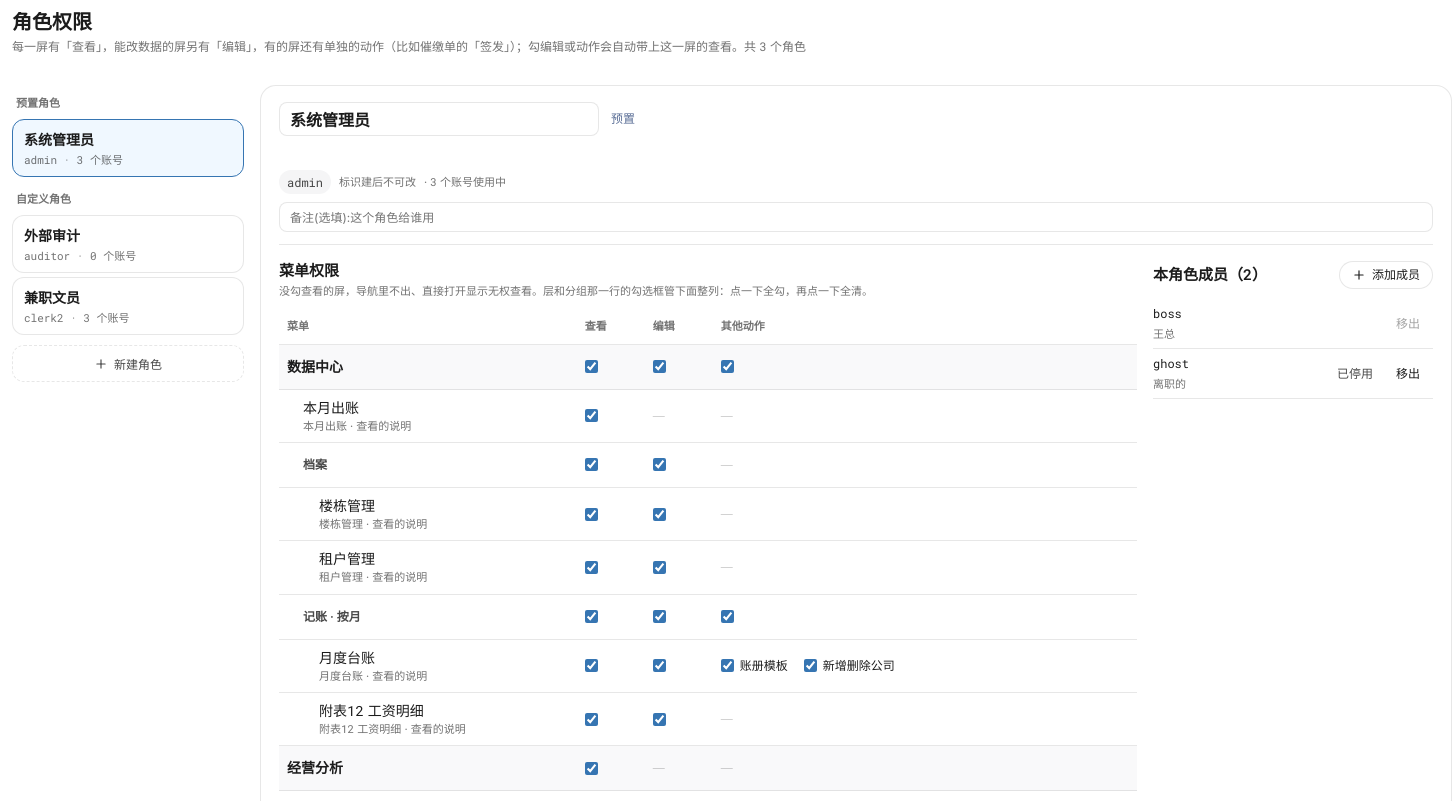
it: 角色本身 › 删除按钮:预置角色没有;自定义角色有,有成员时禁用并写「请先移出」
Click the button with class "sr-item" showing "外部审计 auditor · 0 个账号": (128,244) 12,215 -> 244,273
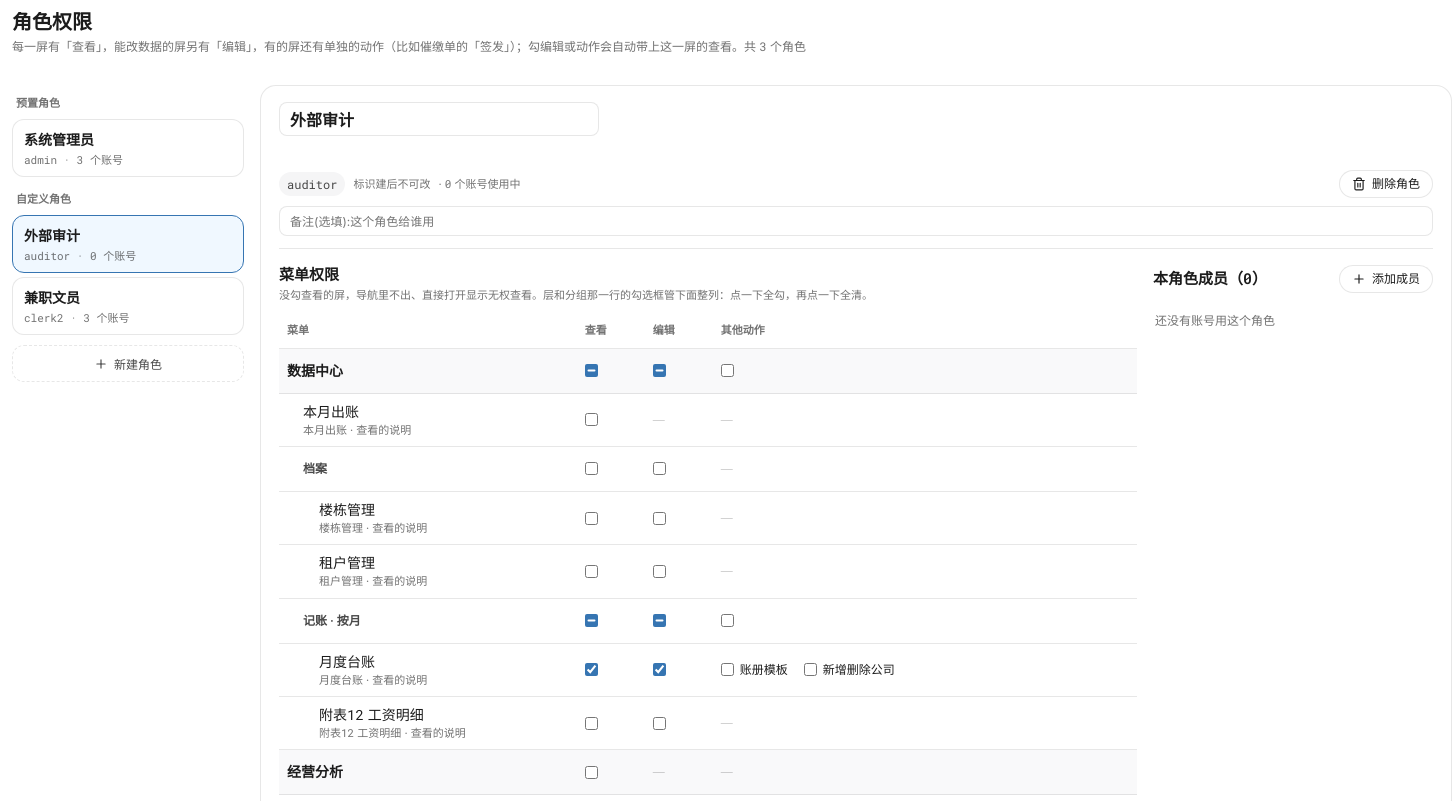
Check: the button "删除角色" is enabled, box 1339,170 -> 1433,198
Click the button with class "sr-item" showing "兼职文员 clerk2 · 3 个账号": (128,306) 12,277 -> 244,335
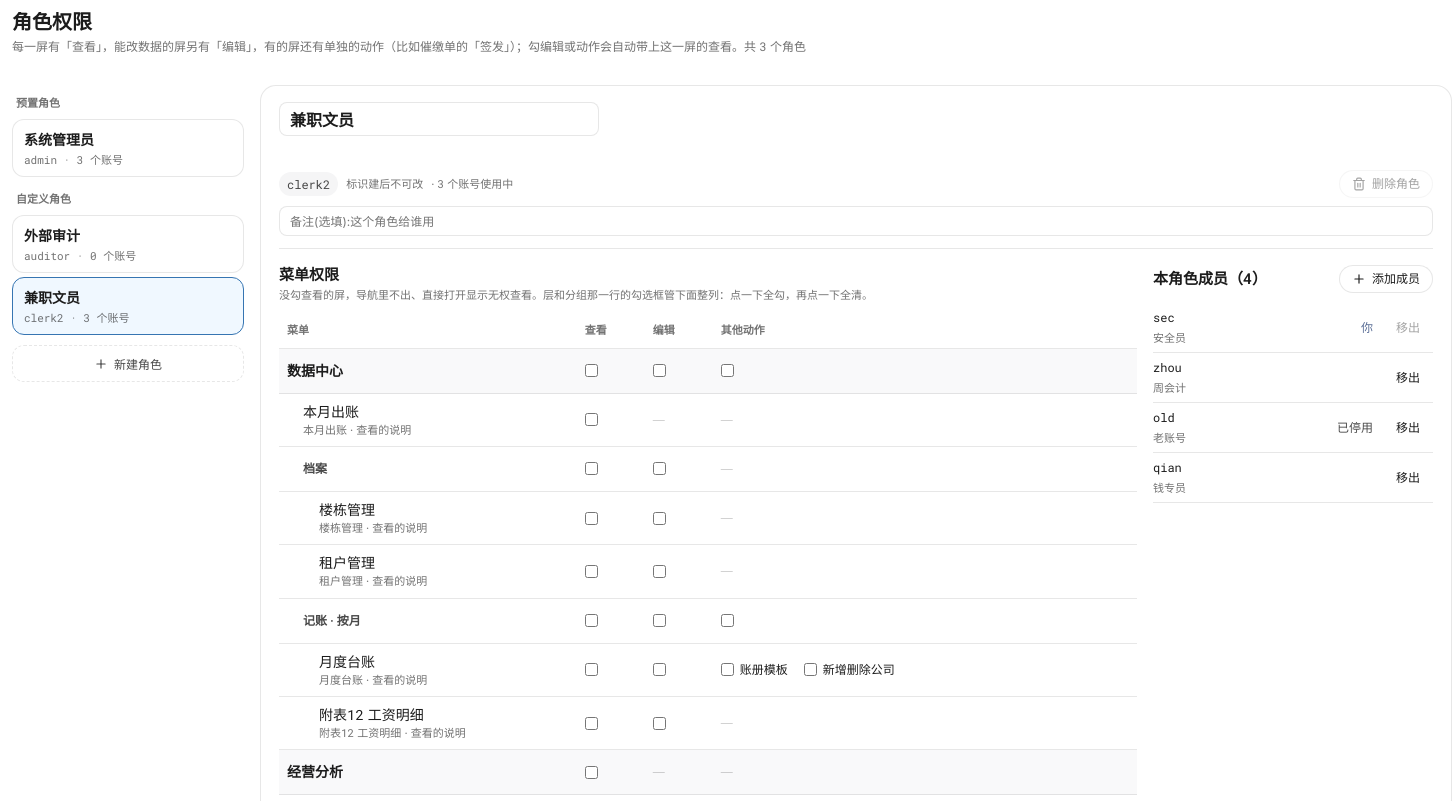
Check: the button "删除角色" is disabled, box 1339,170 -> 1433,198
